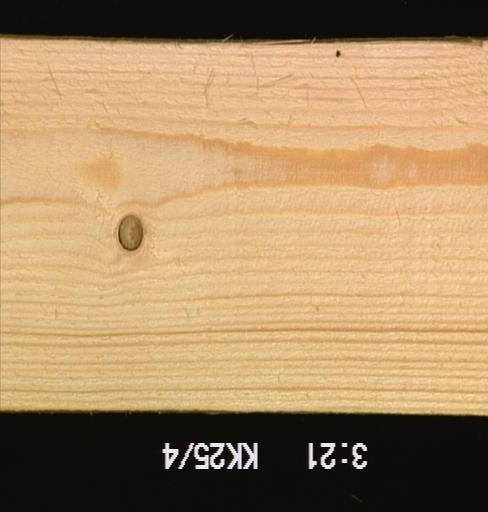dry_knot: (117, 212, 145, 252)
